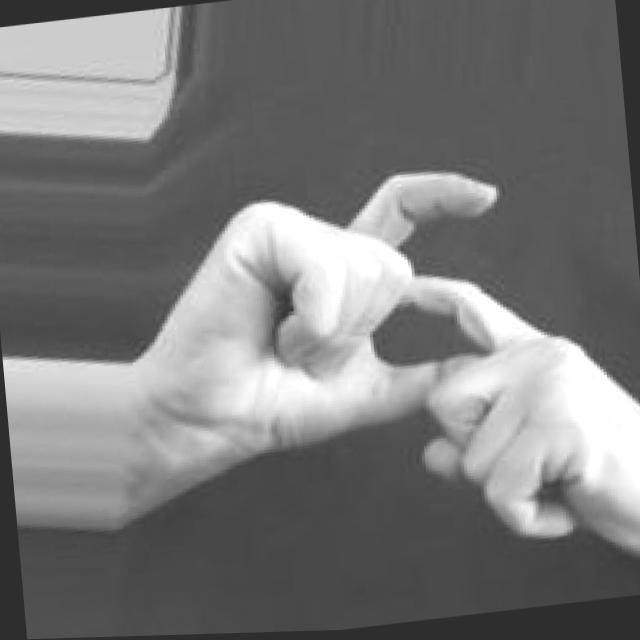G: (112, 139, 640, 621)
